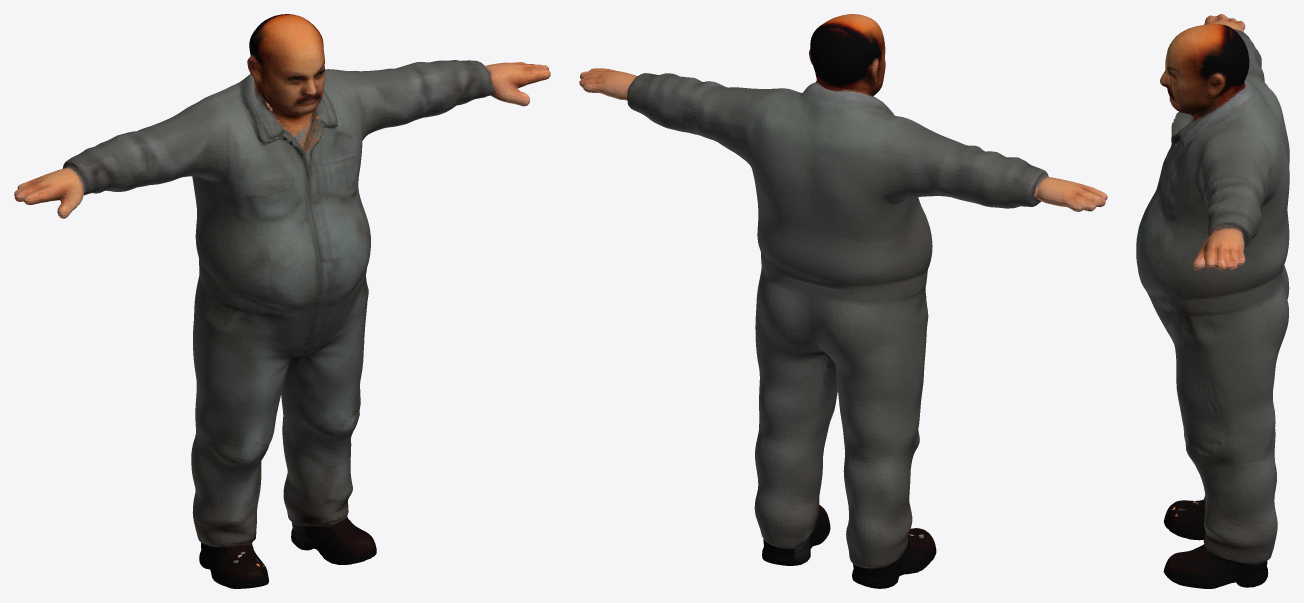
The model's file is asly.glb.
3 renders of one model, left to right at view 1: azimuth 30°, elevation 25°; view 2: azimuth 150°, elevation 25°; view 3: azimuth 270°, elevation 25°, orthographic. The views are drawn at different scales.
Parts seen in each view (by area): view 1: tmp2v2k0ff7.ply; view 2: tmp2v2k0ff7.ply; view 3: tmp2v2k0ff7.ply.
Part boxes in pixels (x1=…): tmp2v2k0ff7.ply: x1=14, y1=14, x2=550, y2=588; tmp2v2k0ff7.ply: x1=579, y1=14, x2=1107, y2=588; tmp2v2k0ff7.ply: x1=1136, y1=14, x2=1289, y2=588.
Bounding box in the file's own units: 1.99 × 1.95 × 0.5125.
Materials: 1 (1 with a texture image).
